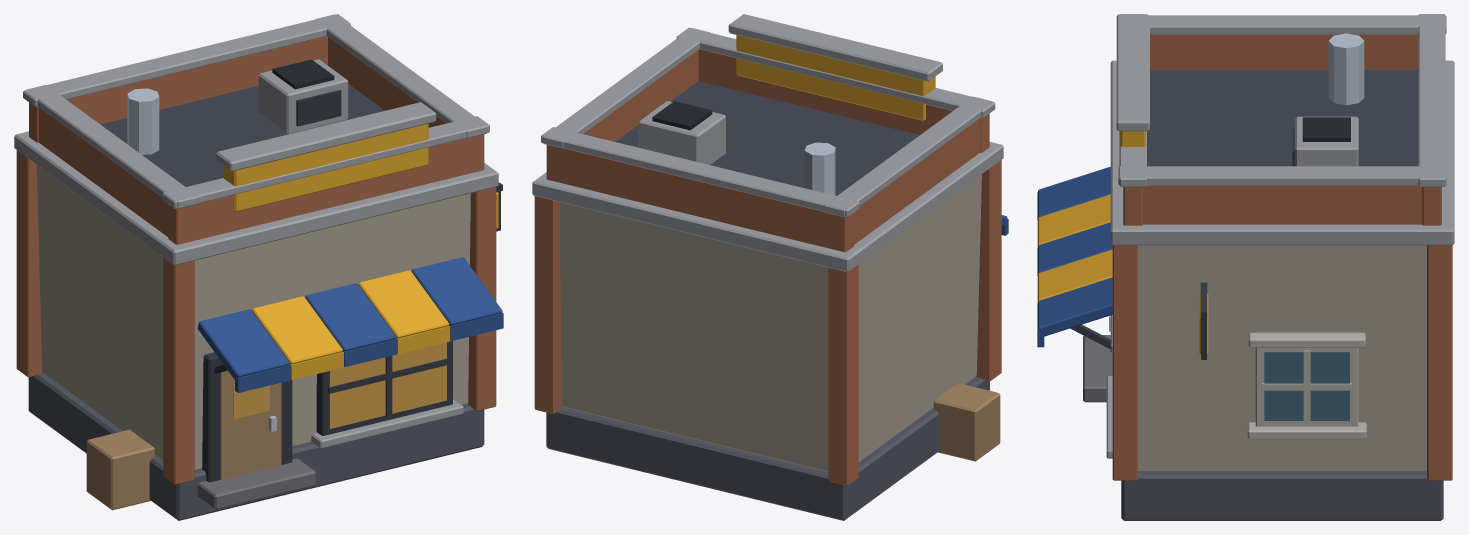
Rendered from Stylized_Building_CornerShop.fbx.
The picture shows the model from 3 angles, left to right: view 1: azimuth 30°, elevation 25°; view 2: azimuth 150°, elevation 25°; view 3: azimuth 270°, elevation 25°; orthographic projection. The views are drawn at different scales.
Parts seen in each view (by area): view 1: Stylized_Building_CornerShop; view 2: Stylized_Building_CornerShop; view 3: Stylized_Building_CornerShop.
Boxes of the visible parts, x1,y1,x2,y2 form: Stylized_Building_CornerShop: (14, 14, 503, 520); Stylized_Building_CornerShop: (532, 14, 1008, 520); Stylized_Building_CornerShop: (1037, 14, 1454, 520).
Bounding box in the file's own units: 5.04 × 4.2 × 4.25.
